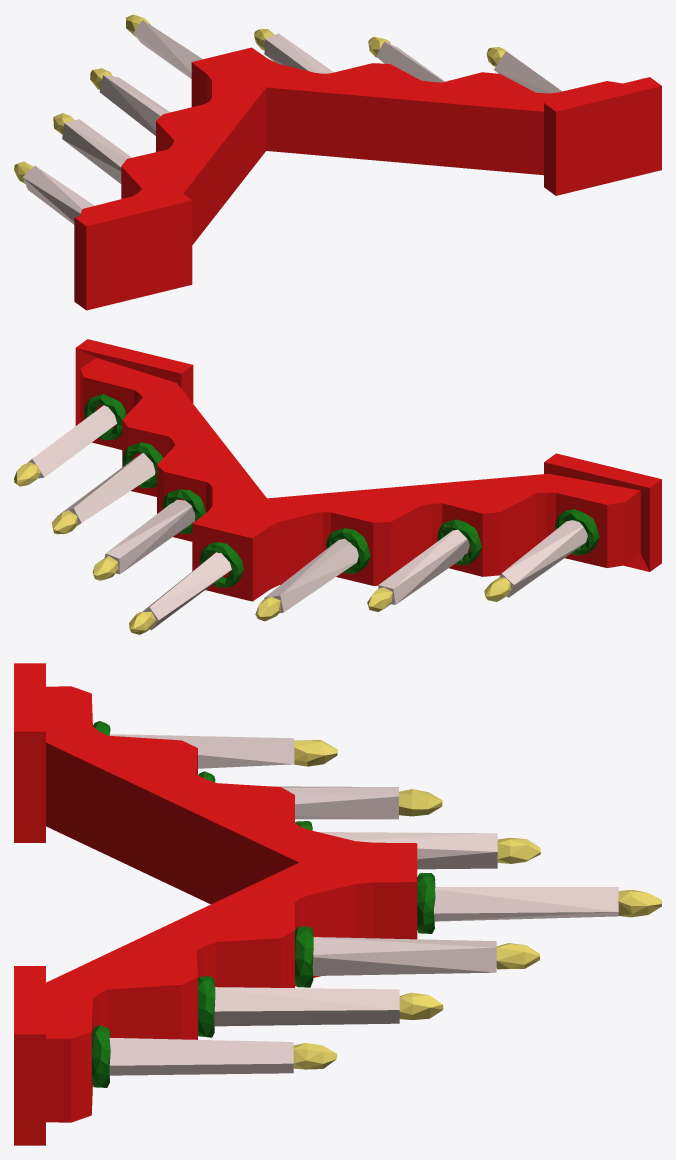
File: ljusstakeLessPoly.fbx
3 views of the same model, one above another, from view 1: azimuth 30°, elevation 25°; view 2: azimuth 150°, elevation 25°; view 3: azimuth 270°, elevation 25° (orthographic). The views are drawn at different scales.
Visible parts, largest first — view 1: Cube, Cylinder.003, Cylinder.004, Cylinder, Cylinder.007, Cylinder.008, Cylinder.012, Cylinder.011; view 2: Cube, Cylinder.003, Cylinder.008, Cylinder.004, Cylinder, Cylinder.011, Cylinder.012, Cylinder.007, Torus.010, Torus.006, Torus.001, Torus.002 (+10 smaller); view 3: Cube, Cylinder.011, Cylinder.008, Cylinder.012, Cylinder.007, Cylinder.004, Cylinder.003, Cylinder, Torus.004, Torus.006, Torus.010, Torus.005 (+7 smaller).
Part boxes in pixels (<box>): Cube: <box>74,47,661,310</box>; Cylinder.003: <box>62,119,131,183</box>; Cylinder.004: <box>99,75,170,135</box>; Cylinder: <box>22,165,94,224</box>; Cylinder.007: <box>133,20,202,78</box>; Cylinder.008: <box>264,33,333,73</box>; Cylinder.012: <box>494,51,561,93</box>; Cylinder.011: <box>376,41,444,82</box>; Cube: <box>75,339,661,601</box>; Cylinder.003: <box>378,529,469,604</box>; Cylinder.008: <box>104,499,195,574</box>; Cylinder.004: <box>264,538,358,613</box>; Cylinder: <box>499,520,587,597</box>; Cylinder.011: <box>60,453,155,525</box>; Cylinder.012: <box>28,405,116,478</box>; Cylinder.007: <box>142,552,231,630</box>; Torus.010: <box>199,542,243,587</box>; Torus.006: <box>84,394,126,440</box>; Torus.001: <box>326,528,370,573</box>; Torus.002: <box>437,519,481,564</box>; Cube: <box>14,663,417,1145</box>; Cylinder.011: <box>214,987,399,1026</box>; Cylinder.008: <box>312,937,496,975</box>; Cylinder.012: <box>109,1038,293,1075</box>; Cylinder.007: <box>433,887,618,921</box>; Cylinder.004: <box>319,832,497,869</box>; Cylinder.003: <box>272,786,398,819</box>; Cylinder: <box>109,734,294,768</box>; Torus.004: <box>295,926,313,987</box>; Torus.006: <box>92,1025,110,1087</box>; Torus.010: <box>417,873,435,933</box>; Torus.005: <box>198,976,215,1037</box>.
Size of the model in its own units: 336 by 47.06 by 248.
